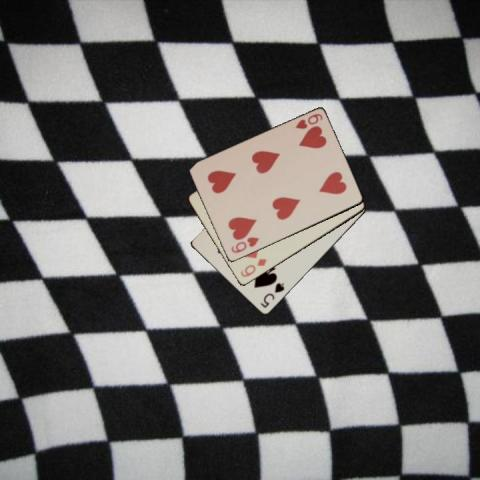5s: (257, 280, 286, 309)
6d: (237, 256, 268, 279)
6h: (228, 234, 261, 255), (293, 110, 324, 130)
